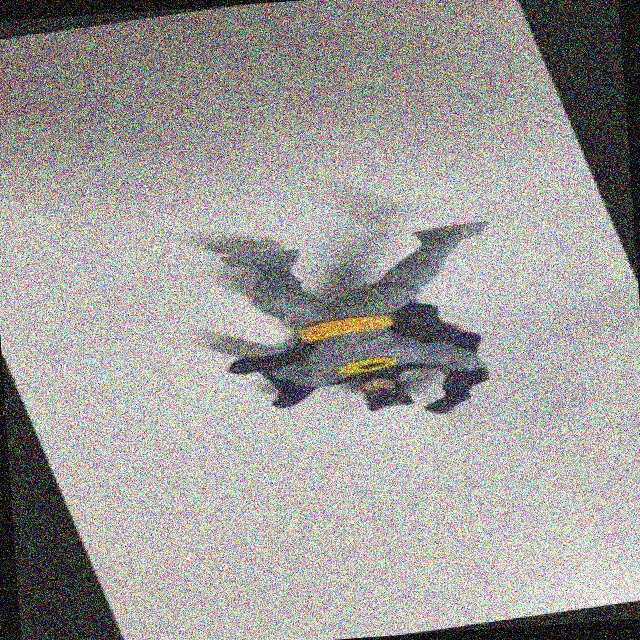Batman: (154, 192, 578, 456)
